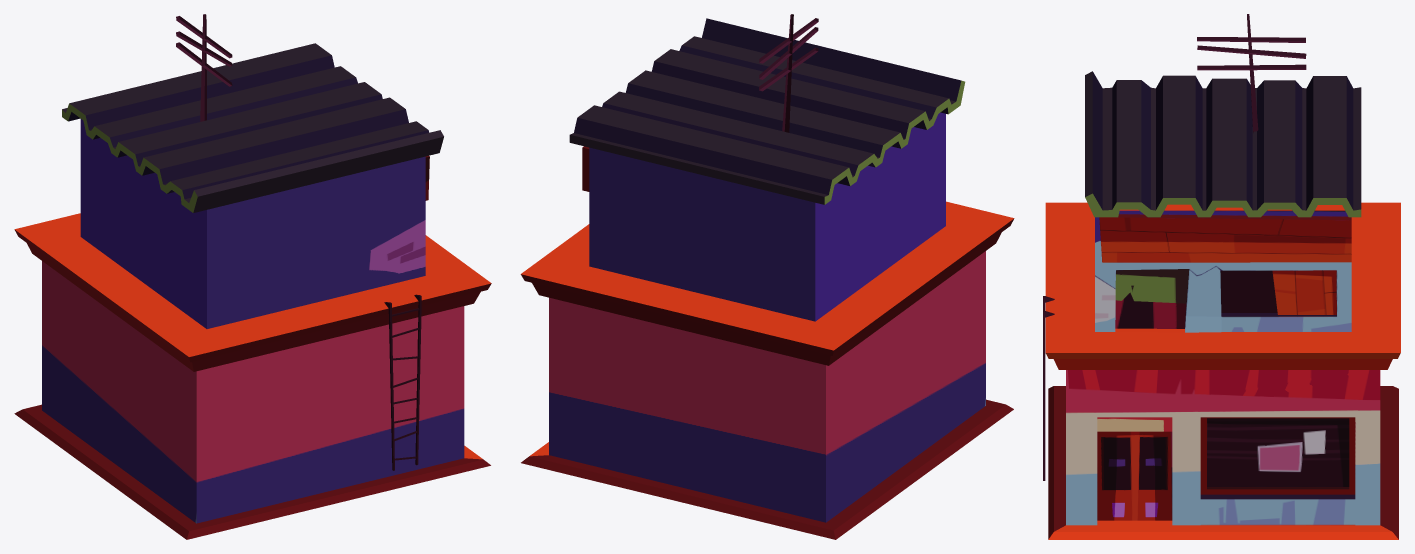
3 renders of one model, left to right at view 1: azimuth 30°, elevation 25°; view 2: azimuth 150°, elevation 25°; view 3: azimuth 270°, elevation 25°, orthographic. The views are drawn at different scales.
Parts seen in each view (by area): view 1: 2.001_Bina2_0; view 2: 2.001_Bina2_0; view 3: 2.001_Bina2_0.
Boxes of the visible parts, x1,y1,x2,y2 form: 2.001_Bina2_0: (14, 14, 491, 539); 2.001_Bina2_0: (520, 14, 1014, 539); 2.001_Bina2_0: (1043, 14, 1400, 539).
Size of the model in its own units: 114 by 152 by 114.
